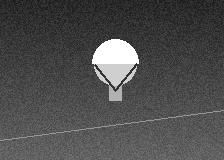helmet: (92, 39, 138, 90)
